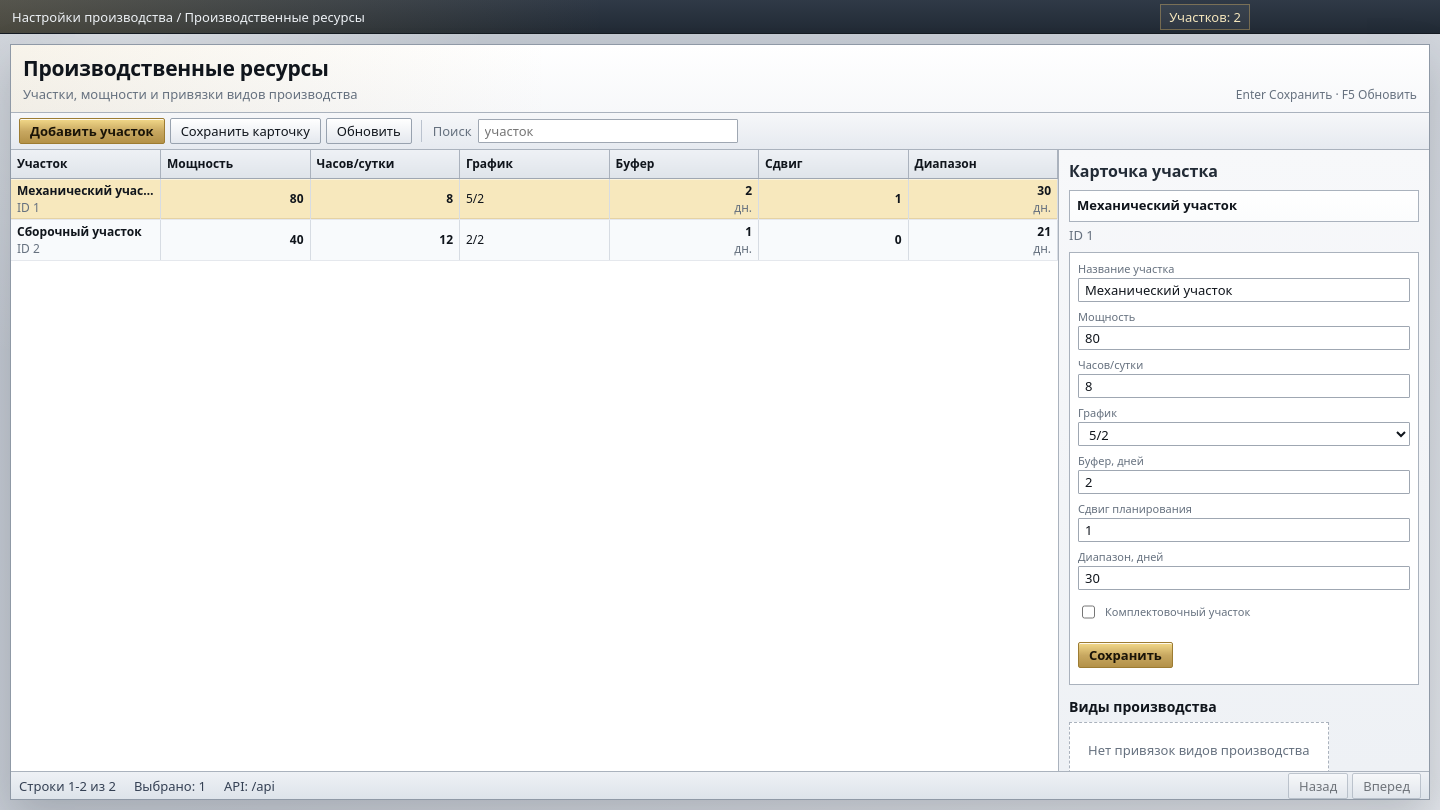
it: ResourcesPage characterization › ignores stale detail responses after selecting another resource
The image size is (1440, 810).
Click the text "Сборочный участок" at x=86, y=231, box [17, 222, 154, 240]
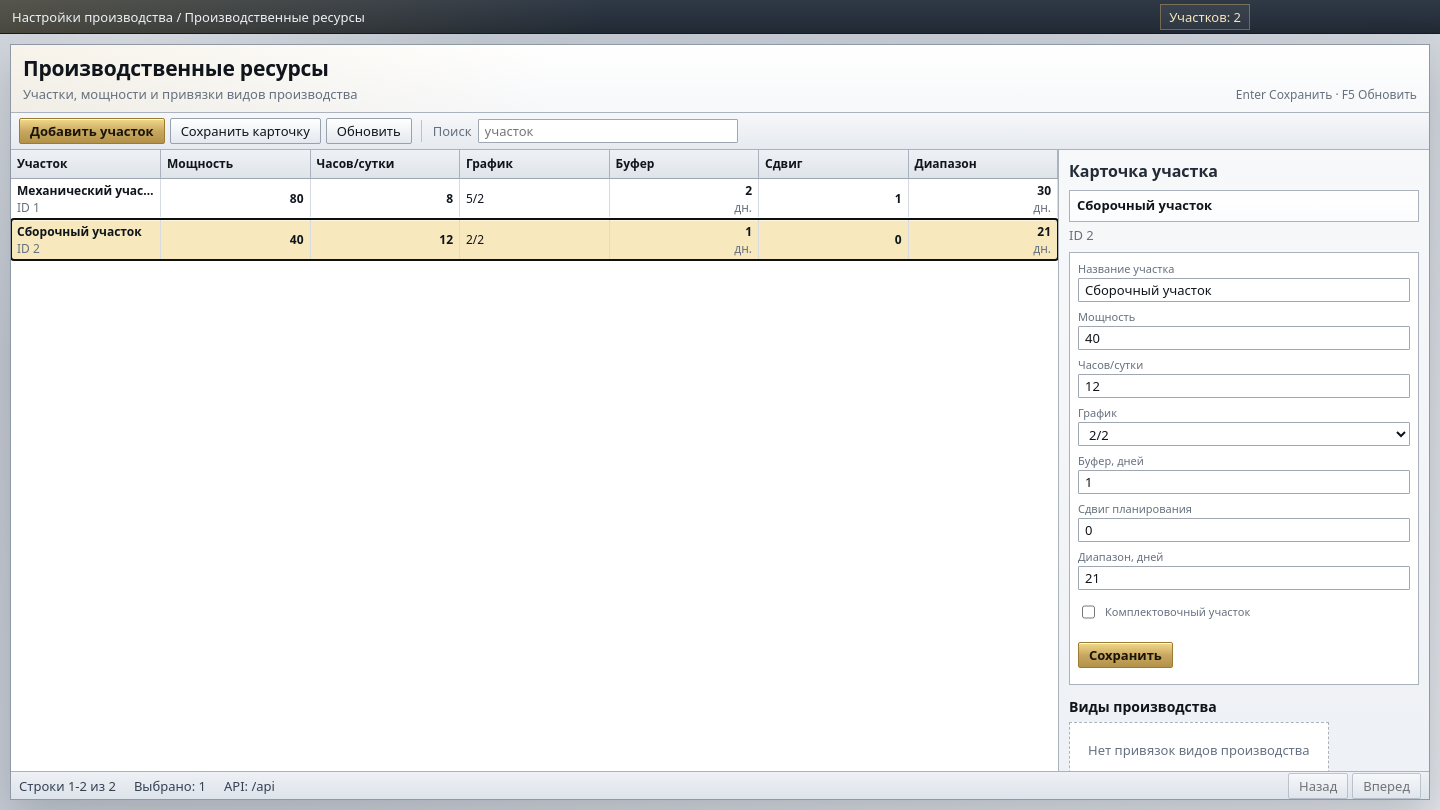
Expected: the field labelled "Название участка" holds "Сборочный участок", [1078, 278, 1410, 302]
